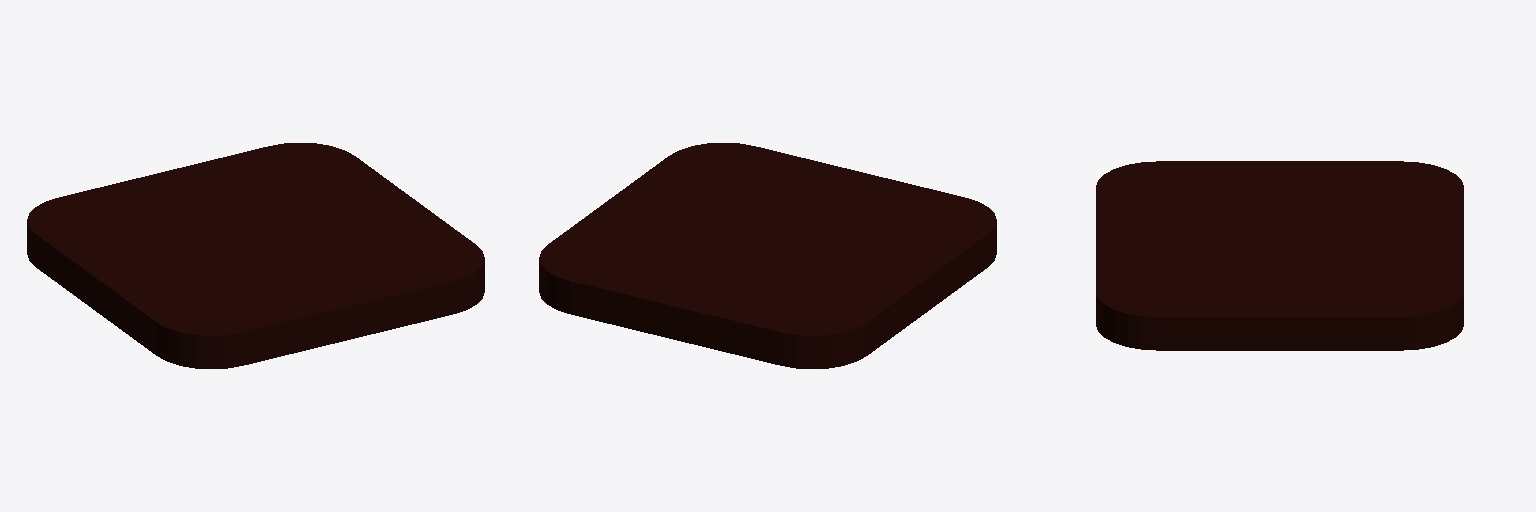
The model's file is CaseMontagne.obj.
3 views of the same model, side by side, from view 1: azimuth 30°, elevation 25°; view 2: azimuth 150°, elevation 25°; view 3: azimuth 270°, elevation 25° (orthographic).
Visible parts, largest first — view 1: Montagne; view 2: Montagne; view 3: Montagne.
Part boxes in pixels (bbox=[...]): Montagne: bbox=[27, 143, 484, 368]; Montagne: bbox=[539, 143, 996, 368]; Montagne: bbox=[1096, 161, 1463, 350].
Size of the model in its own units: 2 by 0.2 by 2.